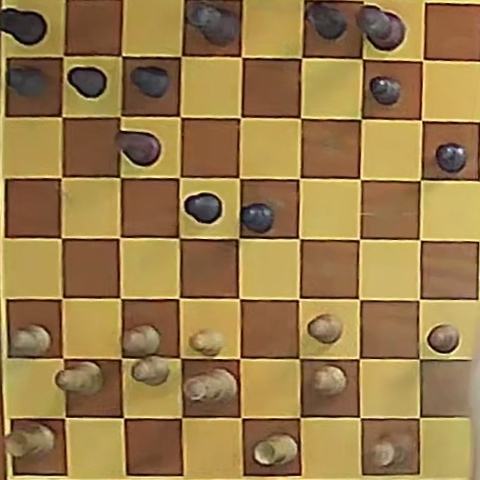black-king: (357, 6, 404, 51)
black-knight: (116, 132, 160, 166)
black-pawn: (68, 66, 107, 99), (131, 66, 171, 98), (7, 67, 46, 98), (184, 193, 222, 224), (241, 203, 274, 233), (436, 143, 467, 173), (370, 76, 401, 105)
black-queen: (186, 2, 238, 46)
black-rook: (0, 7, 47, 46), (305, 3, 347, 41)
white-bishop: (57, 362, 103, 394)
white-king: (369, 433, 414, 470)
white-pawn: (9, 324, 51, 357), (122, 325, 160, 356), (131, 357, 170, 385), (313, 366, 347, 396), (308, 314, 343, 343), (190, 328, 225, 356), (427, 325, 459, 353)
white-queen: (184, 369, 237, 403)
white-rook: (5, 422, 55, 459), (253, 433, 298, 466)
